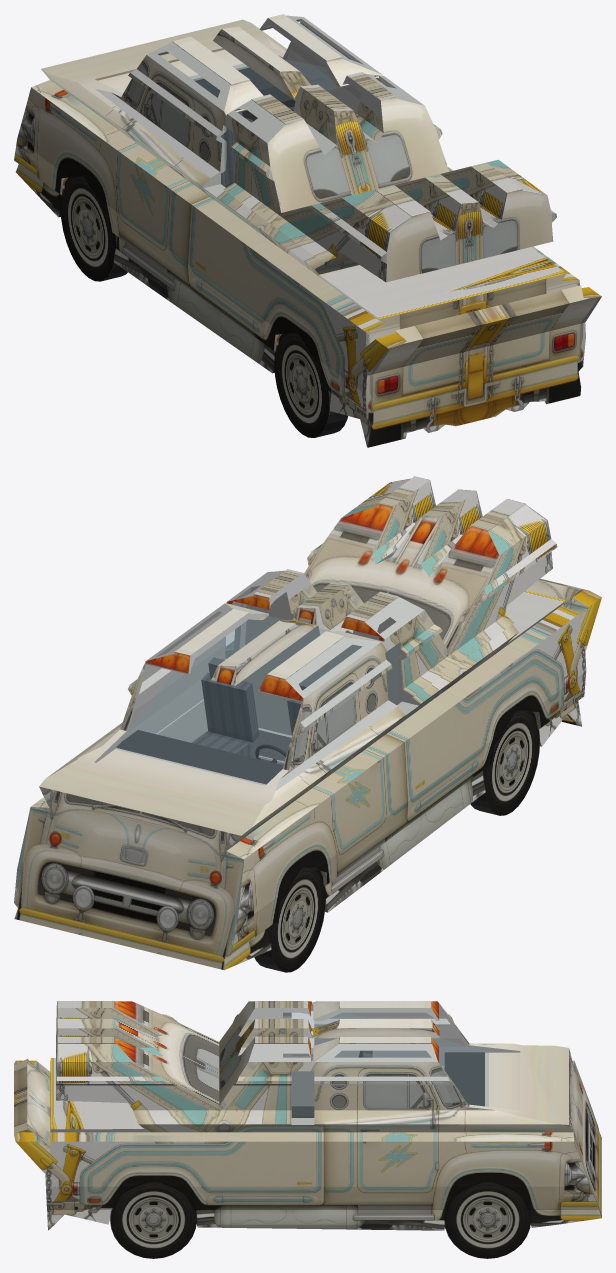
The model's file is tow_truck.glb.
3 renders of one model, top to bottom at view 1: azimuth 30°, elevation 25°; view 2: azimuth 150°, elevation 25°; view 3: azimuth 270°, elevation 25°, orthographic. The views are drawn at different scales.
Parts seen in each view (by area): view 1: tow_truck, wheel_BL, wheel_FL, tow_truck_cabin; view 2: tow_truck, tow_truck_cabin, wheel_FL, wheel_BL; view 3: tow_truck, wheel_BR, wheel_FR, tow_truck_cabin.
Boxes of the visible parts, x1=… form: tow_truck: x1=14, y1=14, x2=601, y2=447; wheel_BL: x1=274, y1=332, x2=347, y2=437; wheel_FL: x1=60, y1=175, x2=127, y2=281; tow_truck_cabin: x1=190, y1=60, x2=338, y2=187; tow_truck: x1=14, y1=476, x2=601, y2=970; tow_truck_cabin: x1=114, y1=613, x2=397, y2=785; wheel_FL: x1=254, y1=866, x2=325, y2=972; wheel_BL: x1=470, y1=709, x2=540, y2=815; tow_truck: x1=14, y1=1001, x2=601, y2=1230; wheel_BR: x1=110, y1=1180, x2=196, y2=1258; wheel_FR: x1=444, y1=1180, x2=530, y2=1258; tow_truck_cabin: x1=291, y1=1011, x2=488, y2=1117.
Size of the model in its own units: 2.36 by 2.58 by 6.99.
12 materials, 4 textured.
